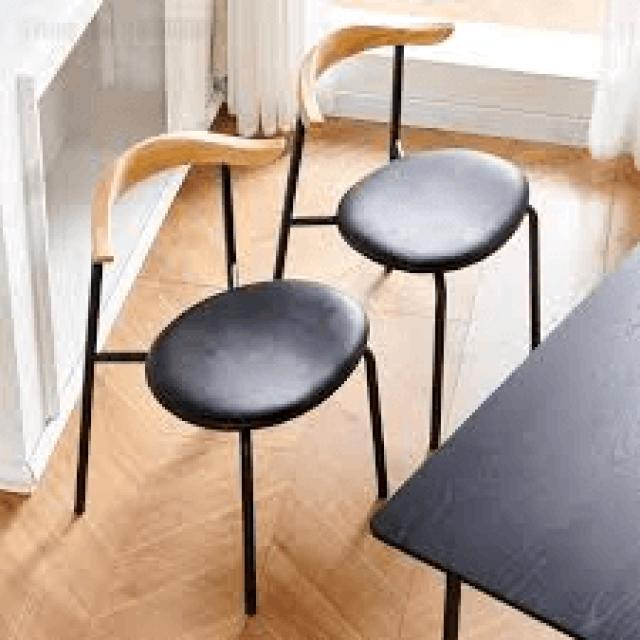chair: (71, 126, 392, 616), (271, 17, 544, 452), (90, 130, 370, 432), (304, 19, 529, 272)
